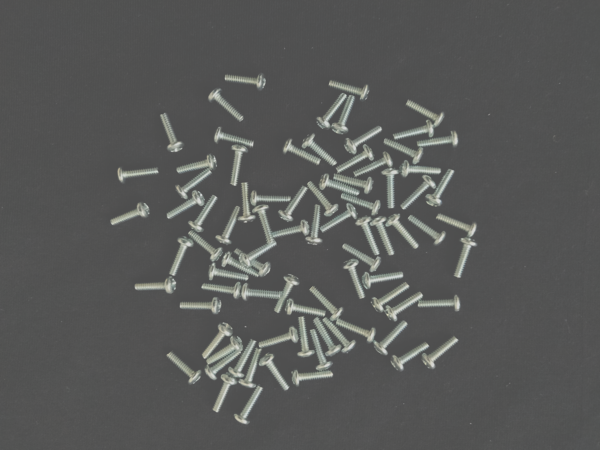shortscrew: (373, 320, 411, 357), (321, 317, 358, 355), (400, 174, 437, 210), (234, 384, 265, 426), (422, 336, 459, 371), (371, 281, 410, 314), (260, 353, 292, 393), (384, 290, 424, 322), (166, 351, 202, 386), (309, 286, 344, 322), (207, 87, 244, 121), (408, 216, 448, 247), (343, 243, 383, 274), (301, 132, 337, 166), (205, 348, 242, 381), (314, 317, 343, 359), (315, 93, 347, 131), (390, 342, 430, 372), (385, 214, 419, 249), (228, 339, 257, 380), (201, 322, 233, 359), (320, 203, 358, 234), (166, 190, 205, 220), (336, 318, 379, 345), (426, 169, 456, 207), (188, 195, 218, 233), (279, 185, 309, 223), (233, 248, 272, 277), (406, 99, 446, 127), (336, 145, 376, 173), (206, 334, 243, 364), (109, 201, 151, 227), (239, 240, 278, 268), (176, 170, 212, 200), (220, 251, 263, 276), (345, 126, 383, 154), (355, 215, 380, 257), (159, 111, 184, 153), (274, 274, 300, 314), (169, 236, 195, 276), (212, 374, 238, 414), (341, 259, 366, 300), (454, 238, 479, 279), (436, 213, 478, 237), (371, 214, 395, 256), (310, 330, 333, 373), (258, 326, 300, 349), (363, 268, 405, 291), (331, 95, 355, 135), (216, 206, 240, 246), (282, 140, 320, 165), (239, 348, 262, 389), (333, 172, 374, 195), (329, 79, 371, 101), (213, 126, 255, 148), (318, 174, 360, 196), (202, 280, 242, 302), (224, 72, 267, 92), (342, 192, 381, 214), (241, 283, 283, 303), (229, 145, 249, 187), (393, 120, 435, 140), (253, 203, 274, 243), (117, 166, 161, 185), (177, 154, 218, 174), (292, 369, 334, 388), (296, 317, 315, 359), (284, 299, 326, 318), (179, 297, 222, 315), (207, 263, 250, 281), (237, 183, 256, 223), (271, 220, 311, 239), (399, 160, 441, 178), (135, 276, 177, 294), (418, 131, 460, 149), (194, 235, 223, 261), (306, 206, 324, 246), (418, 296, 462, 312), (250, 191, 292, 206)
